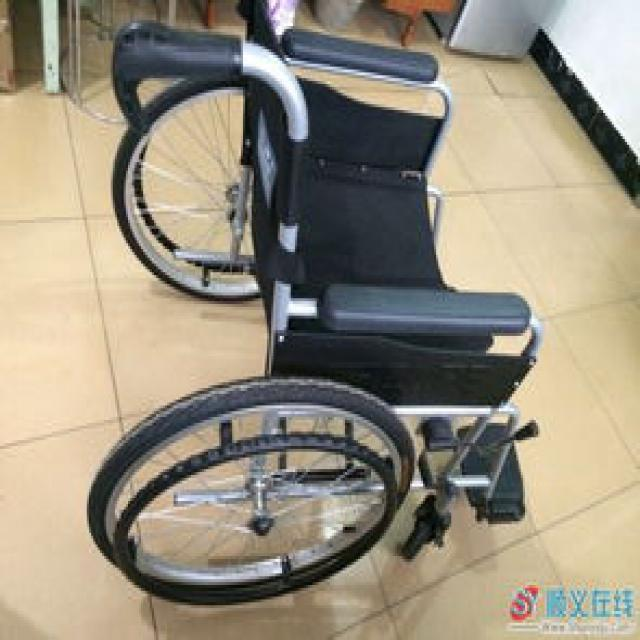wheelchair: (71, 11, 538, 576)
